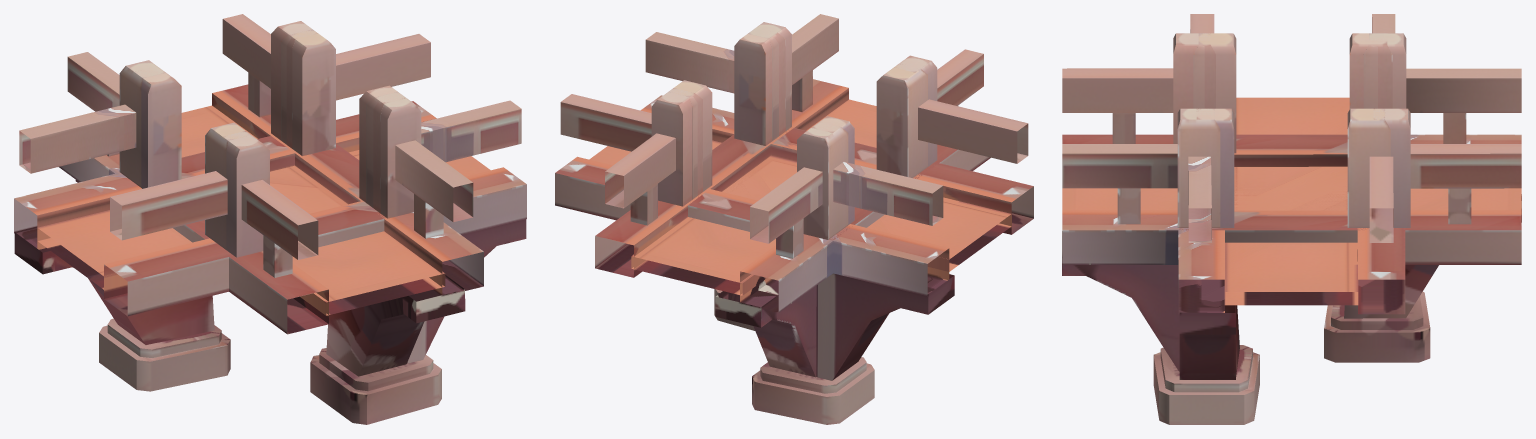
File: Model_bridge_shizilukou.fbx
The picture shows the model from 3 angles, left to right: view 1: azimuth 30°, elevation 25°; view 2: azimuth 150°, elevation 25°; view 3: azimuth 270°, elevation 25°; orthographic projection. The views are drawn at different scales.
Visible parts, largest first — view 1: shizilukou; view 2: shizilukou; view 3: shizilukou.
Boxes of the visible parts, bbox=[...] form: shizilukou: bbox=[14, 14, 526, 424]; shizilukou: bbox=[555, 14, 1033, 424]; shizilukou: bbox=[1062, 14, 1521, 424].
Size of the model in its own units: 2 by 1.42 by 2.
1 material, 1 textured.
